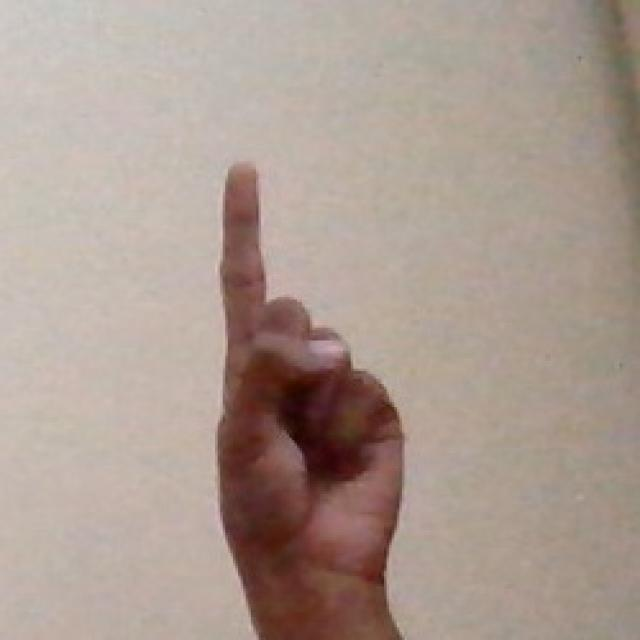Numeric-1: (215, 164, 404, 604)
